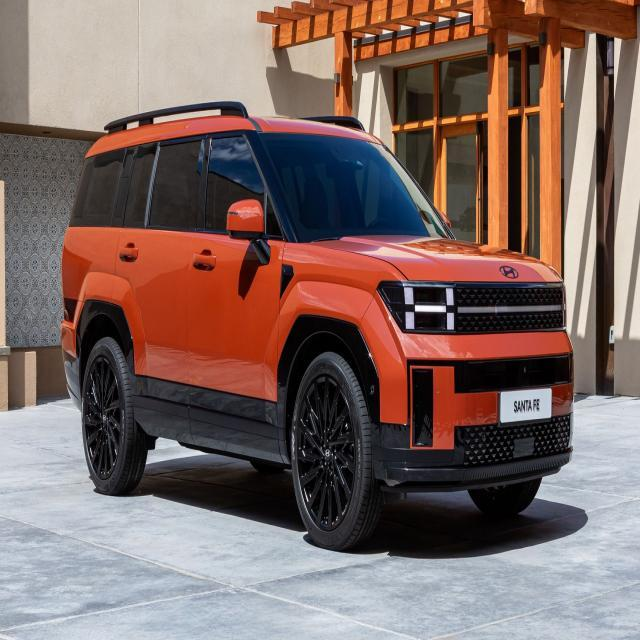sedan: (59, 98, 575, 552)
